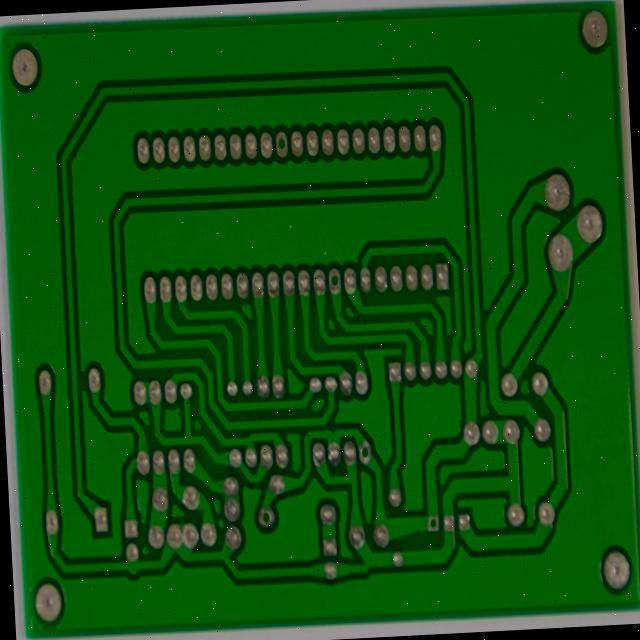missing_hole: (271, 127, 293, 163), (255, 503, 278, 535), (326, 263, 346, 298), (356, 438, 377, 469), (426, 514, 443, 537)
